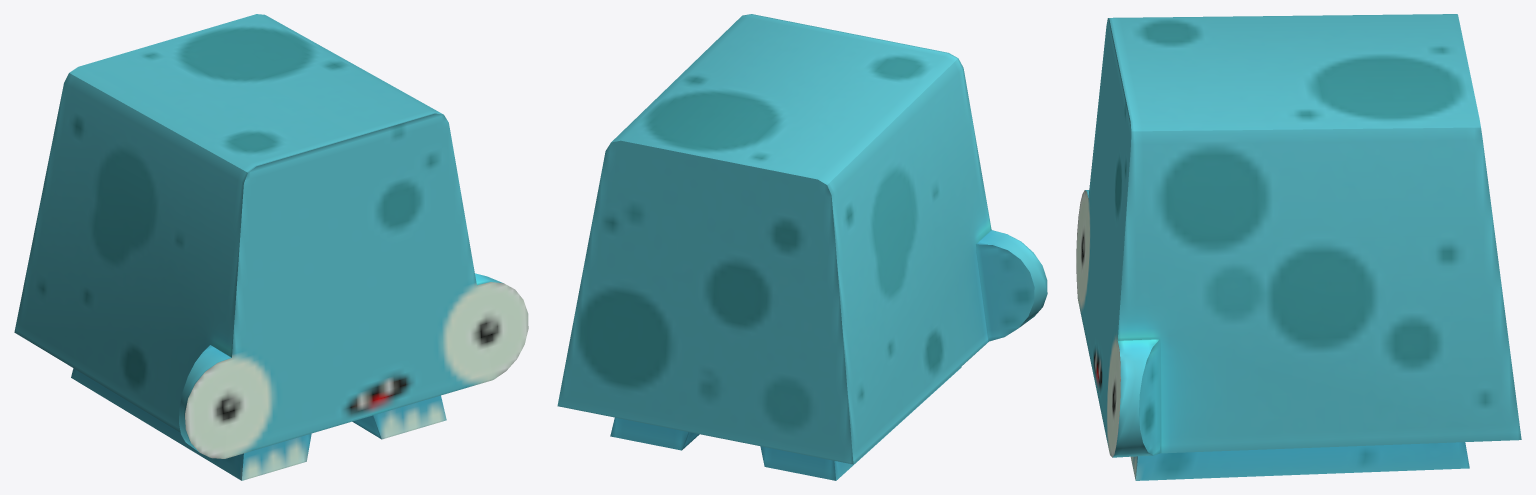
The model's file is fisheye_walk_fbx.fbx.
The picture shows the model from 3 angles, left to right: view 1: azimuth 30°, elevation 25°; view 2: azimuth 150°, elevation 25°; view 3: azimuth 270°, elevation 25°; orthographic projection. The views are drawn at different scales.
Parts seen in each view (by area): view 1: fisheye; view 2: fisheye; view 3: fisheye.
Part boxes in pixels (x1,y1,x2,y2): fisheye: [14, 14, 528, 480]; fisheye: [557, 14, 1047, 480]; fisheye: [1076, 14, 1521, 480].
Bounding box in the file's own units: 13.13 × 10.81 × 12.43.
